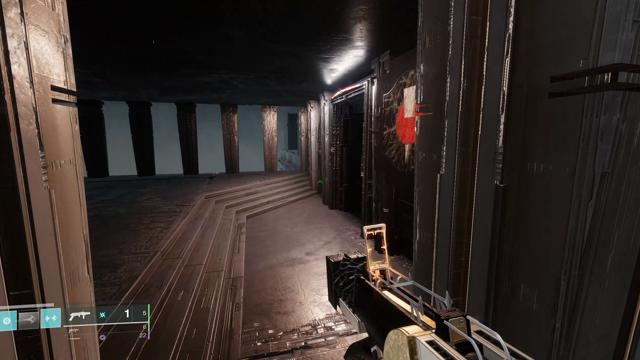kill: (383, 68, 417, 173)
